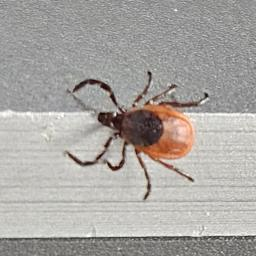Ixodes scapularis: (63, 69, 210, 200)
